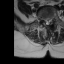CCS_stenosis: (46, 17, 48, 27)
LFS_normal: (50, 16, 53, 24)
LLS_normal: (48, 17, 50, 26)
RFS_stenosis: (42, 16, 44, 22)
RLS_normal: (44, 17, 46, 26)
